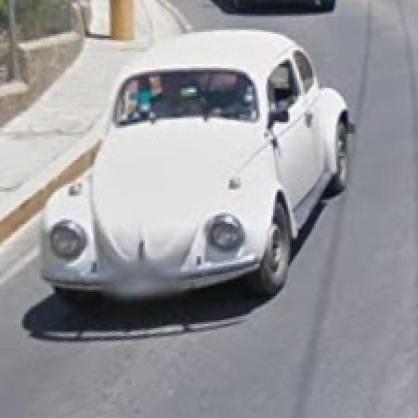car: (40, 29, 354, 299)
